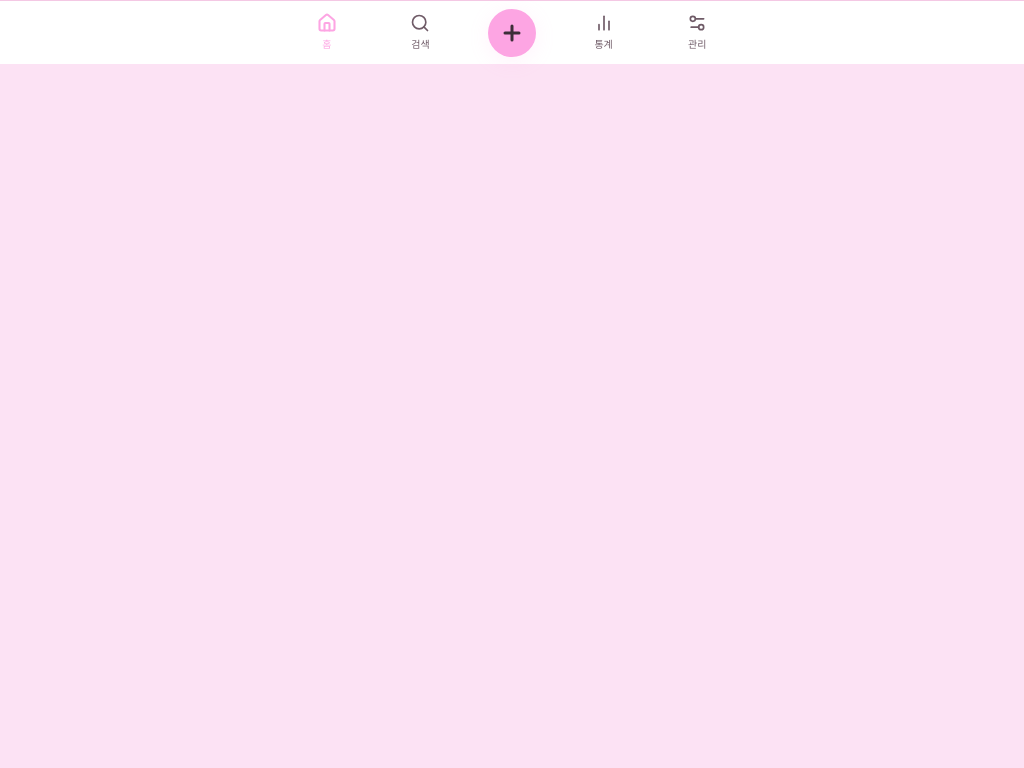
Test: BottomNav › 등록 방식 선택 시트 › 닫기 클릭 시 시트가 닫힌다
The image size is (1024, 768).
Click the button named "거래 등록 방식 선택": (512, 32) [488,8,536,56]
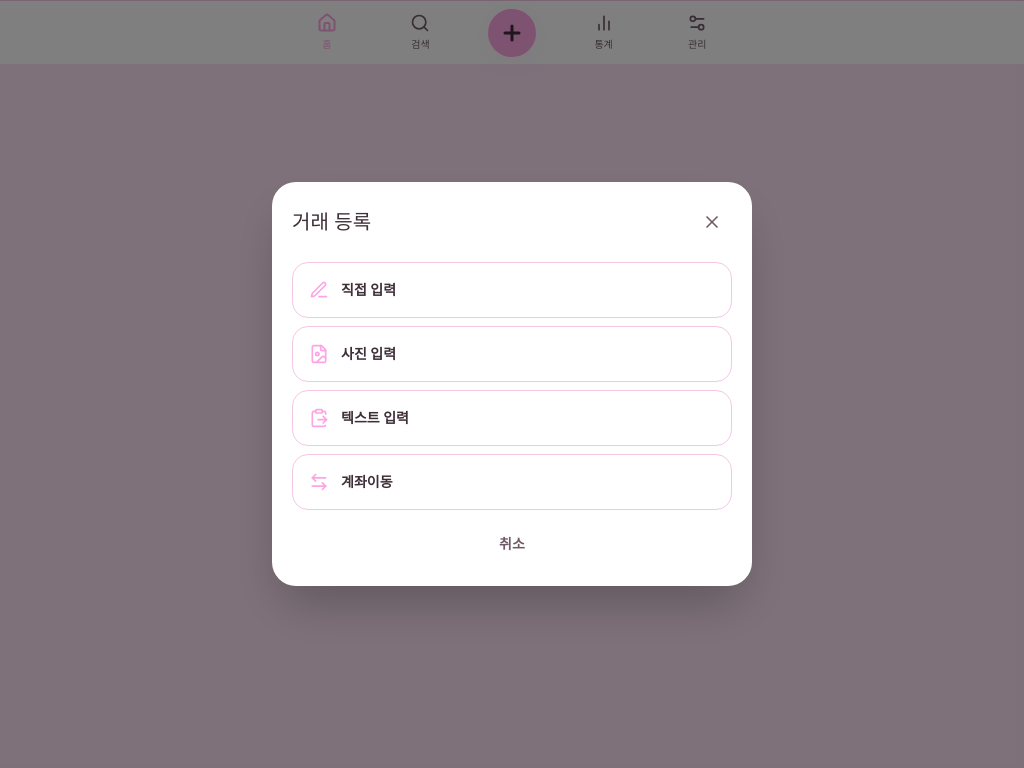
expect the dialog is shown: met, box [272,182,752,586]
Click the button named "닫기": (712, 222) [692,202,732,242]
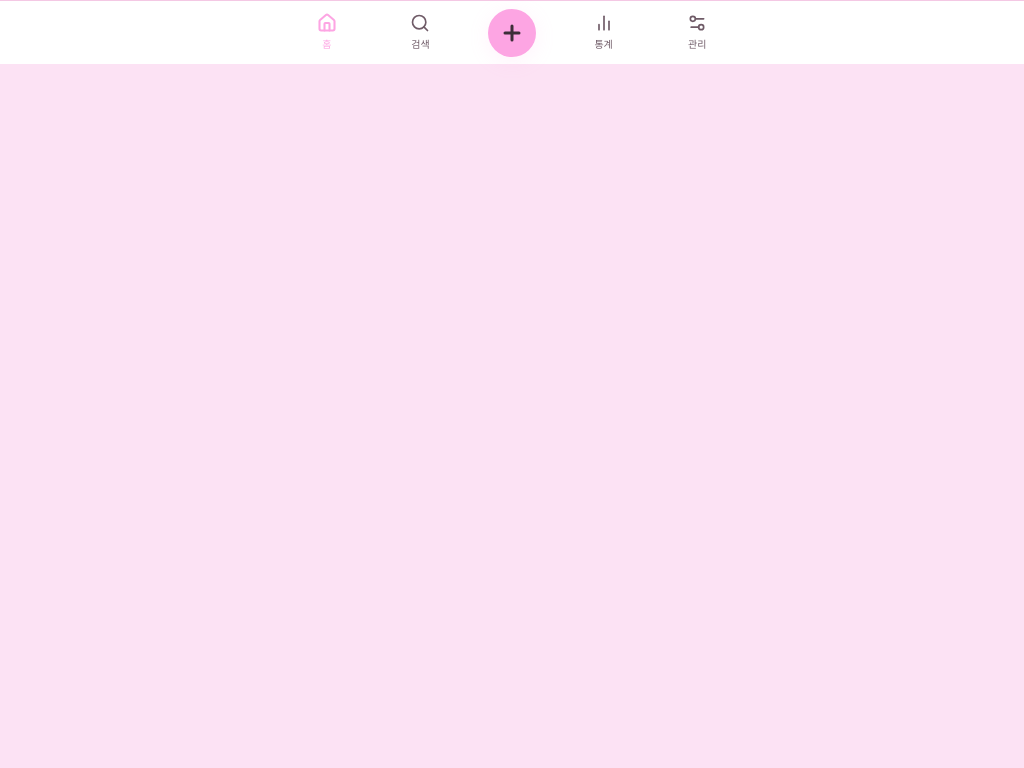
expect the dialog is gone: met
